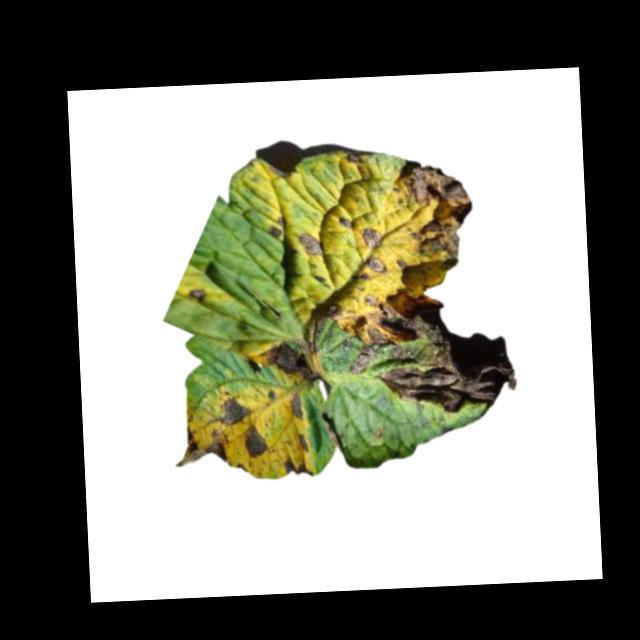Early_blight: (379, 331, 518, 419), (395, 158, 475, 271), (353, 270, 447, 349), (259, 339, 319, 389), (171, 426, 226, 470), (301, 294, 343, 350), (216, 395, 252, 426), (241, 424, 269, 459), (282, 454, 313, 478), (350, 347, 376, 375), (299, 229, 323, 258), (284, 390, 304, 422), (361, 255, 389, 277), (360, 226, 380, 250), (185, 284, 205, 307), (343, 150, 366, 167), (294, 433, 309, 453), (393, 254, 407, 272), (336, 217, 355, 230)
